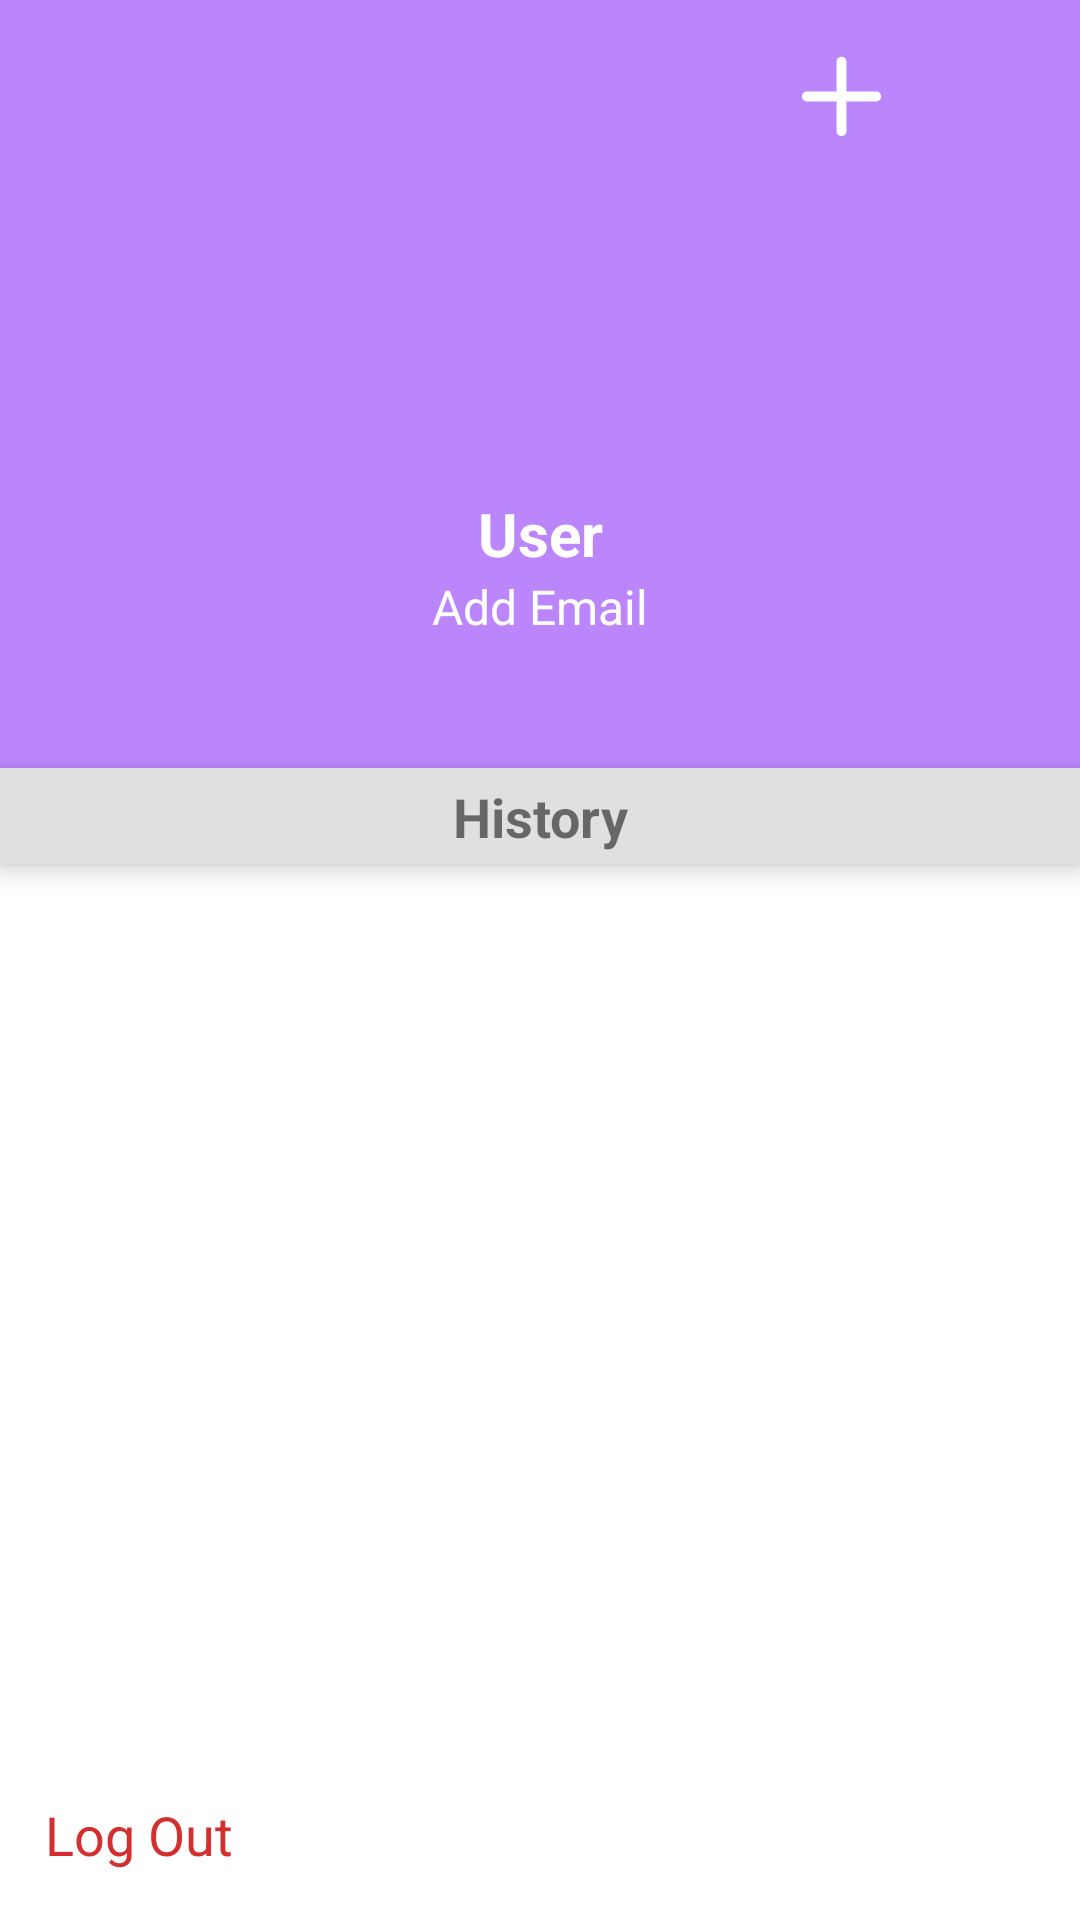

Point at icon controls on the screen. Image size 1080×1920, points as (x=x, y=y).
add: (x=841, y=96)
